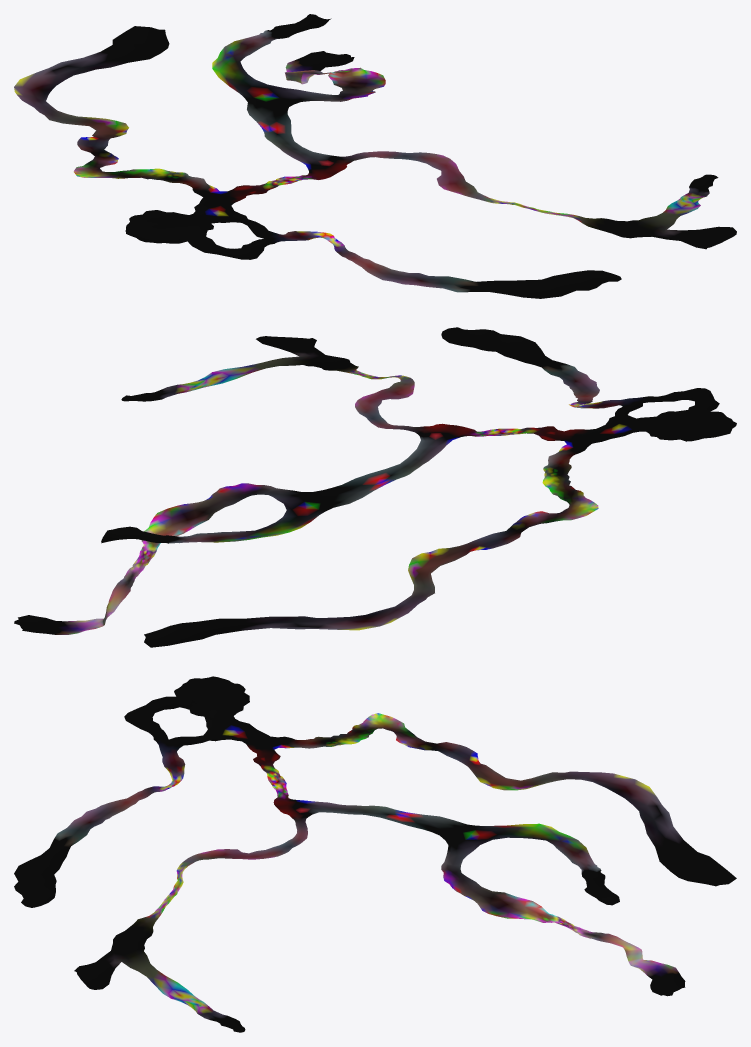
3 renders of one model, top to bottom at view 1: azimuth 30°, elevation 25°; view 2: azimuth 150°, elevation 25°; view 3: azimuth 270°, elevation 25°, orthographic. The views are drawn at different scales.
Parts seen in each view (by area): view 1: G:\FFXIV-MapTools\exports\a2f2\bg\ex1\03_abr_a2\fld\a2f2\bgp; view 2: G:\FFXIV-MapTools\exports\a2f2\bg\ex1\03_abr_a2\fld\a2f2\bgp; view 3: G:\FFXIV-MapTools\exports\a2f2\bg\ex1\03_abr_a2\fld\a2f2\bgp.
Boxes of the visible parts, <box> form: G:\FFXIV-MapTools\exports\a2f2\bg\ex1\03_abr_a2\fld\a2f2\bgp: <box>14,14,736,298</box>; G:\FFXIV-MapTools\exports\a2f2\bg\ex1\03_abr_a2\fld\a2f2\bgp: <box>14,327,736,647</box>; G:\FFXIV-MapTools\exports\a2f2\bg\ex1\03_abr_a2\fld\a2f2\bgp: <box>14,676,736,1032</box>.
Size of the model in its own units: 571 by 111 by 656.
